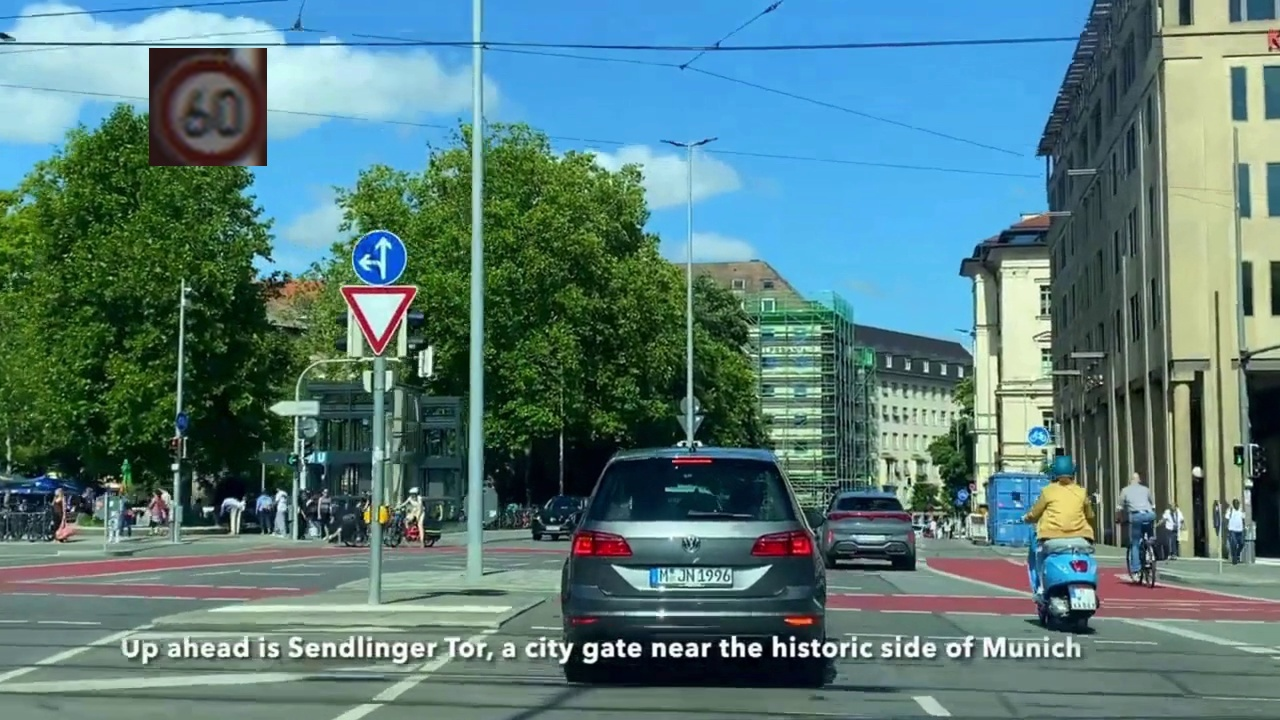Speed 60: (149, 48, 267, 166)
